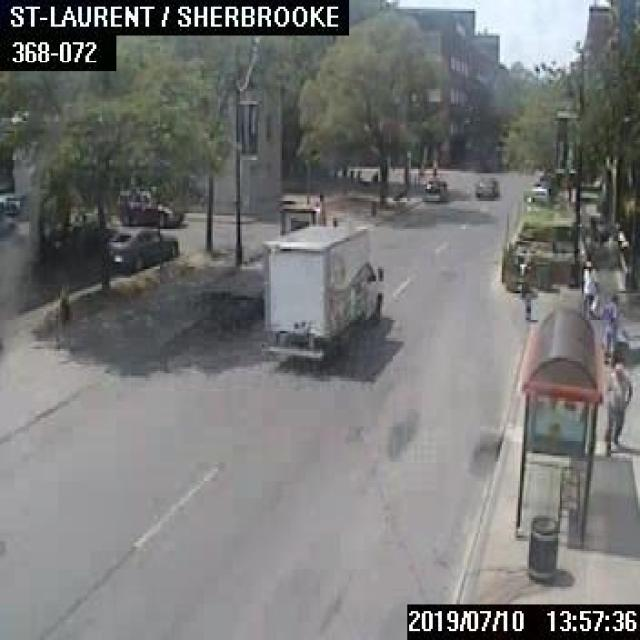pedestrian: (602, 361, 630, 455), (600, 294, 618, 363), (516, 251, 534, 320), (581, 258, 598, 317)
vehicle: (264, 222, 384, 358), (102, 228, 177, 270), (116, 187, 182, 226), (422, 174, 448, 199), (474, 173, 496, 196)
